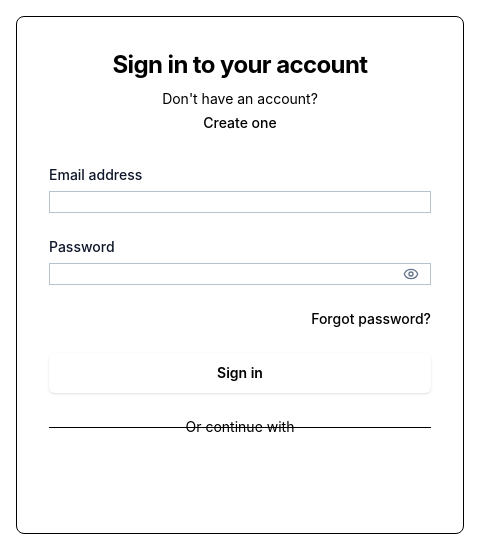
AccountLoginPage › disables submit button while mutation is pending
Step 1. Type "test@example.com" into the field labelled "Email address" → point(240, 202), box [49, 191, 431, 213]
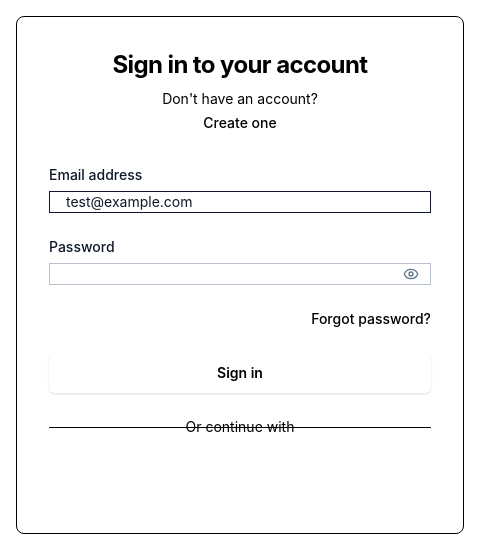
Step 2. Type "somepassword" into the password field labelled "Password" → point(240, 274), box [49, 263, 431, 285]
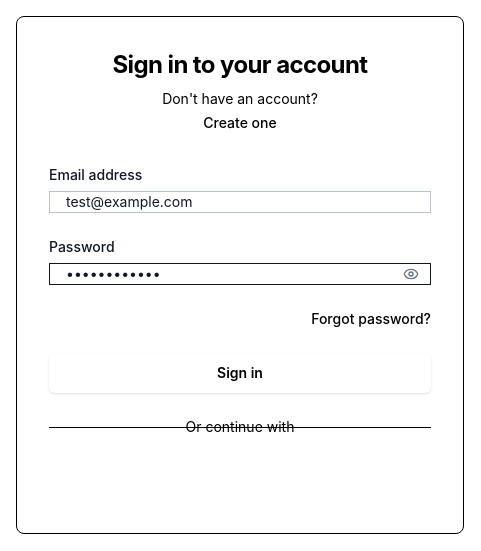
Step 3. Click the button "Sign in" → point(240, 373), box [49, 353, 431, 393]
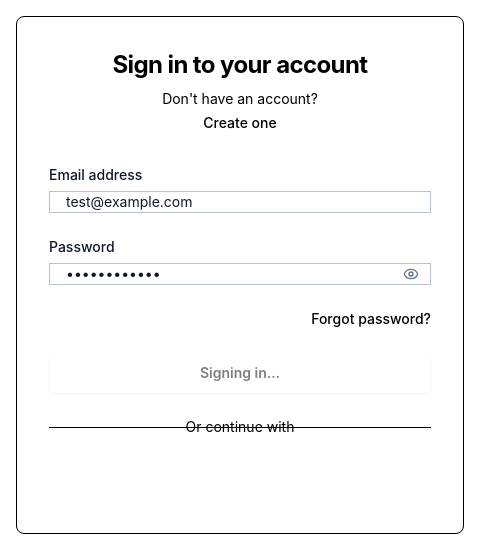
Expected: the button "Signing in…" is disabled, [49, 353, 431, 393]
